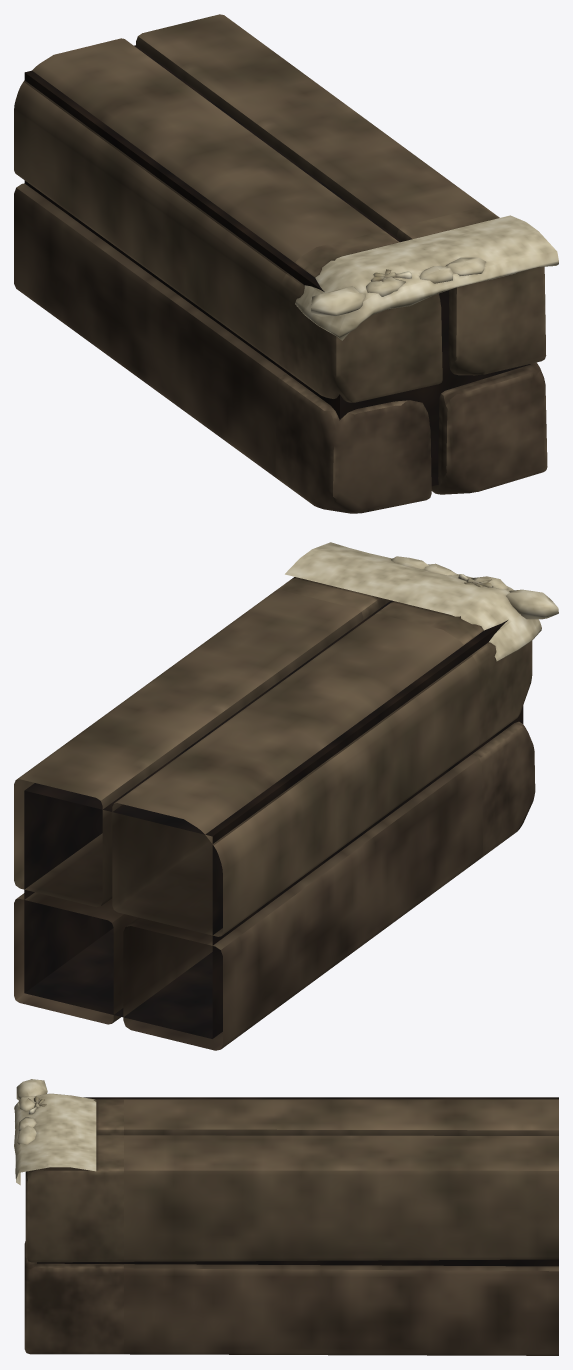
Rendered from Ossuary_Edge_L.fbx.
The picture shows the model from 3 angles, top to bottom: view 1: azimuth 30°, elevation 25°; view 2: azimuth 150°, elevation 25°; view 3: azimuth 270°, elevation 25°; orthographic projection. The views are drawn at different scales.
Parts seen in each view (by area): view 1: Ossuary_Edge_L; view 2: Ossuary_Edge_L; view 3: Ossuary_Edge_L.
Part boxes in pixels (x1,y1,x2,y2): Ossuary_Edge_L: (14, 14, 558, 513); Ossuary_Edge_L: (14, 542, 558, 1050); Ossuary_Edge_L: (14, 1079, 558, 1355).
Size of the model in its own units: 1.08 by 1.02 by 2.57.
